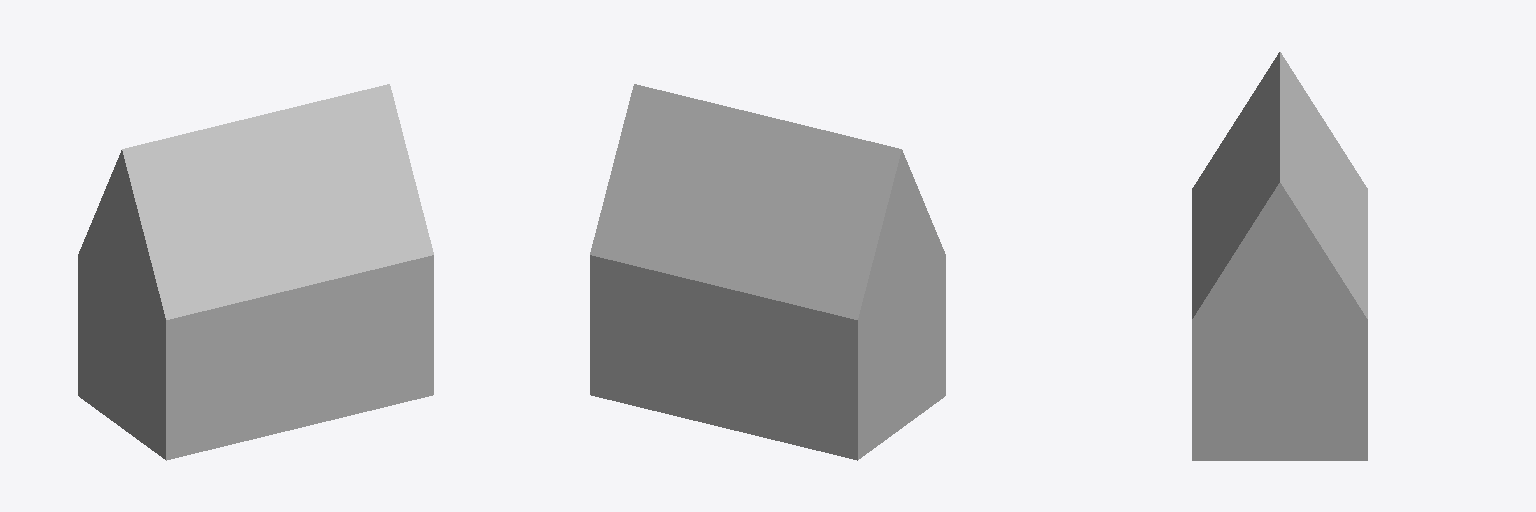
File: pennsylvaniaHouse.obj
The picture shows the model from 3 angles: view 1: azimuth 30°, elevation 25°; view 2: azimuth 150°, elevation 25°; view 3: azimuth 270°, elevation 25°; orthographic projection.
Visible parts, largest first — view 1: PennsylvaniaHouse; view 2: PennsylvaniaHouse; view 3: PennsylvaniaHouse.
Part boxes in pixels (x1,y1,x2,y2): PennsylvaniaHouse: (78, 84, 433, 460); PennsylvaniaHouse: (590, 84, 945, 460); PennsylvaniaHouse: (1192, 52, 1367, 460).
Bounding box in the file's own units: 70 × 69.64 × 40.